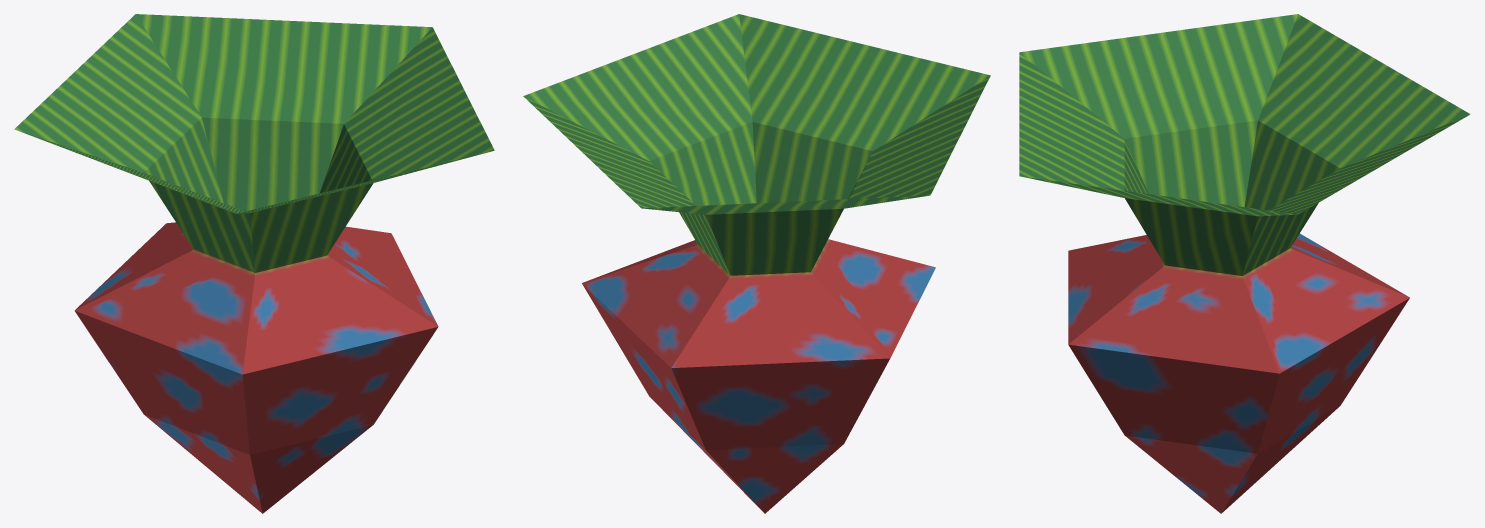
Rendered from Beet.fbx.
The picture shows the model from 3 angles, left to right: view 1: azimuth 30°, elevation 25°; view 2: azimuth 150°, elevation 25°; view 3: azimuth 270°, elevation 25°; orthographic projection. The views are drawn at different scales.
Visible parts, largest first — view 1: Cylinder; view 2: Cylinder; view 3: Cylinder.
Boxes of the visible parts, bbox=[...] form: Cylinder: bbox=[14, 14, 494, 513]; Cylinder: bbox=[523, 14, 990, 513]; Cylinder: bbox=[1019, 14, 1470, 513].
Bounding box in the file's own units: 398 × 370 × 378.
